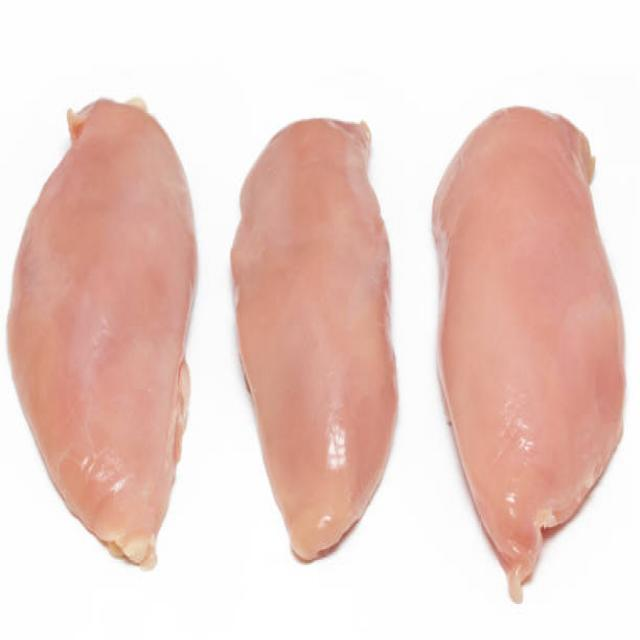Chicken Breast: (417, 49, 639, 622), (8, 16, 205, 594), (214, 36, 411, 563)
